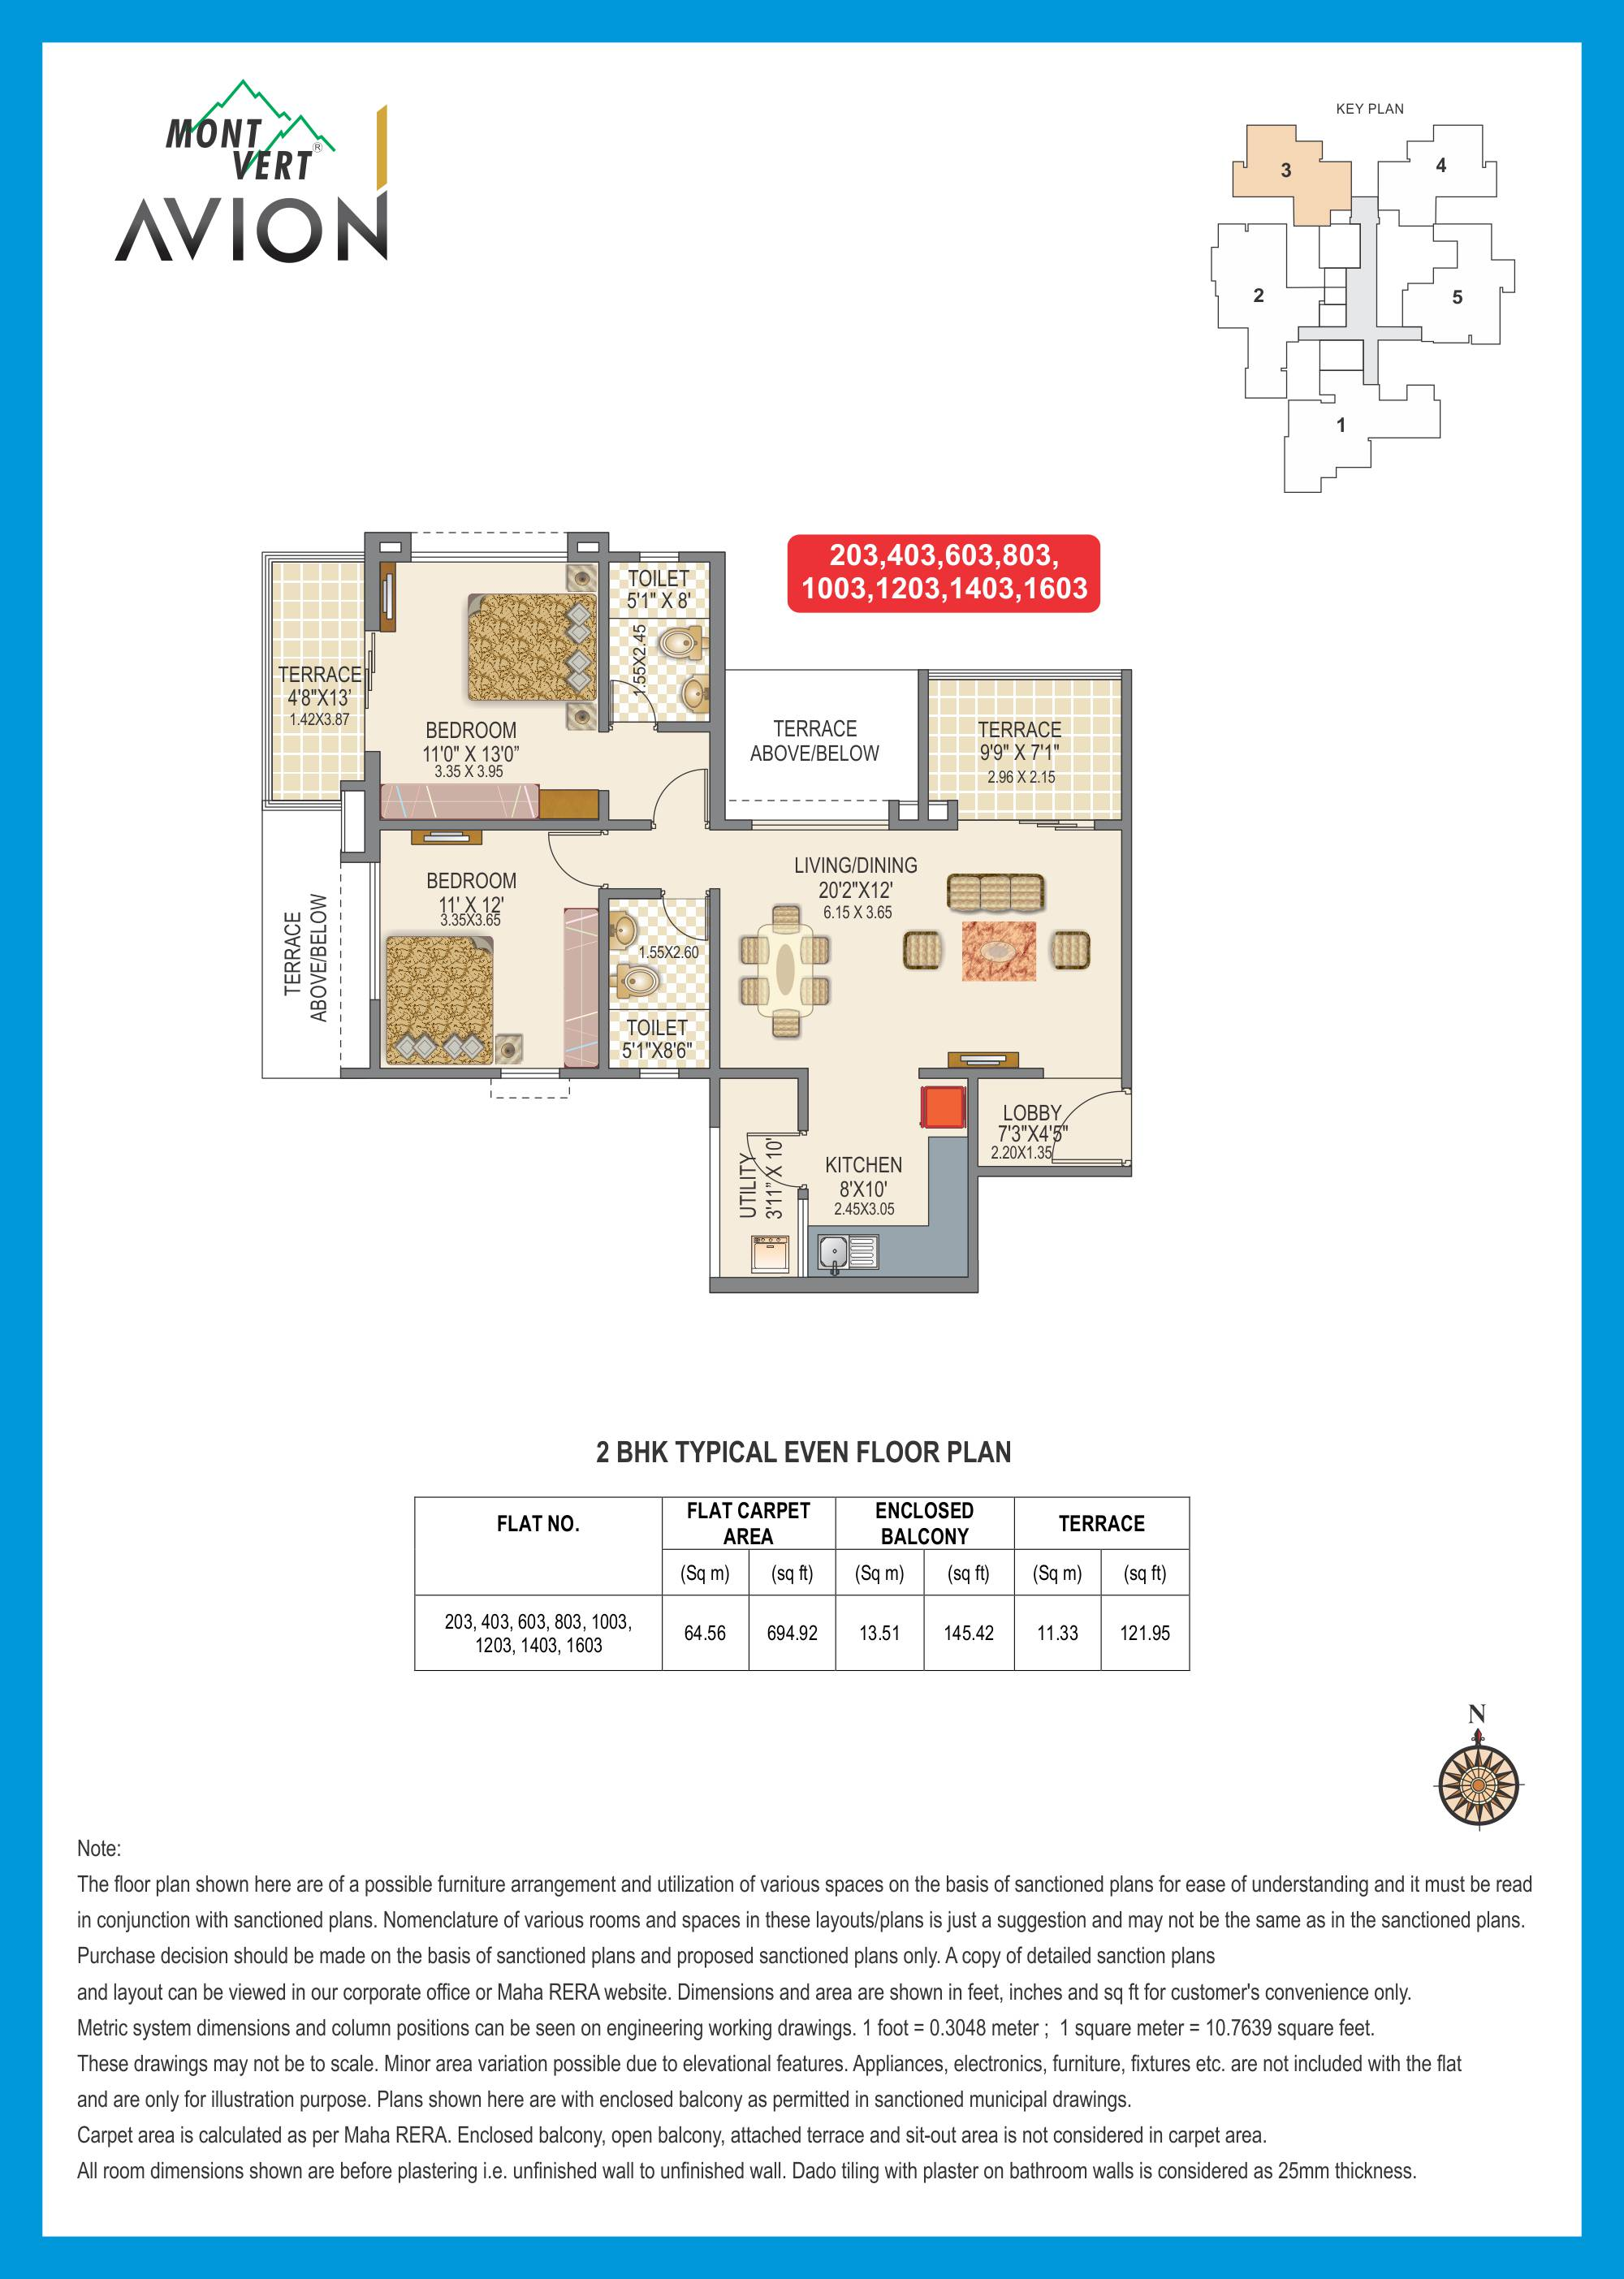door: (1049, 1088, 1120, 1163), (649, 761, 708, 821), (540, 829, 598, 891), (742, 1130, 796, 1184), (659, 898, 710, 945), (608, 675, 661, 720)
